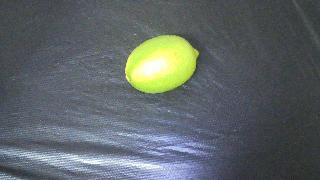LOCAL: (125, 35, 199, 93)
